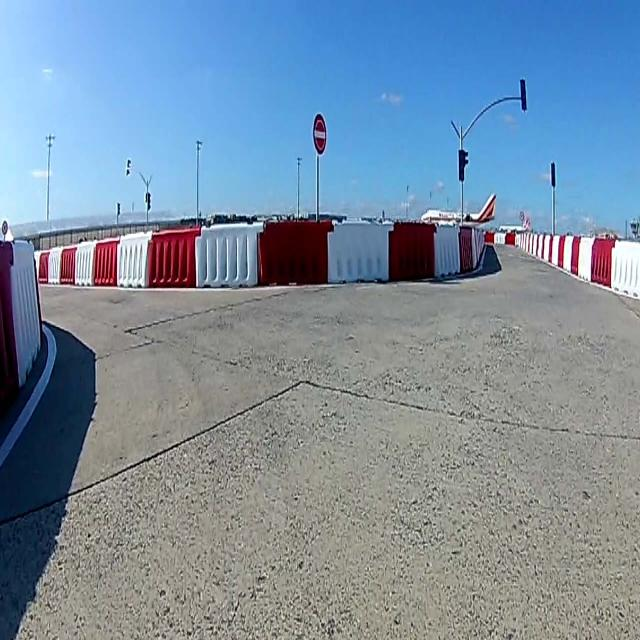girisyok: (312, 113, 328, 155)
